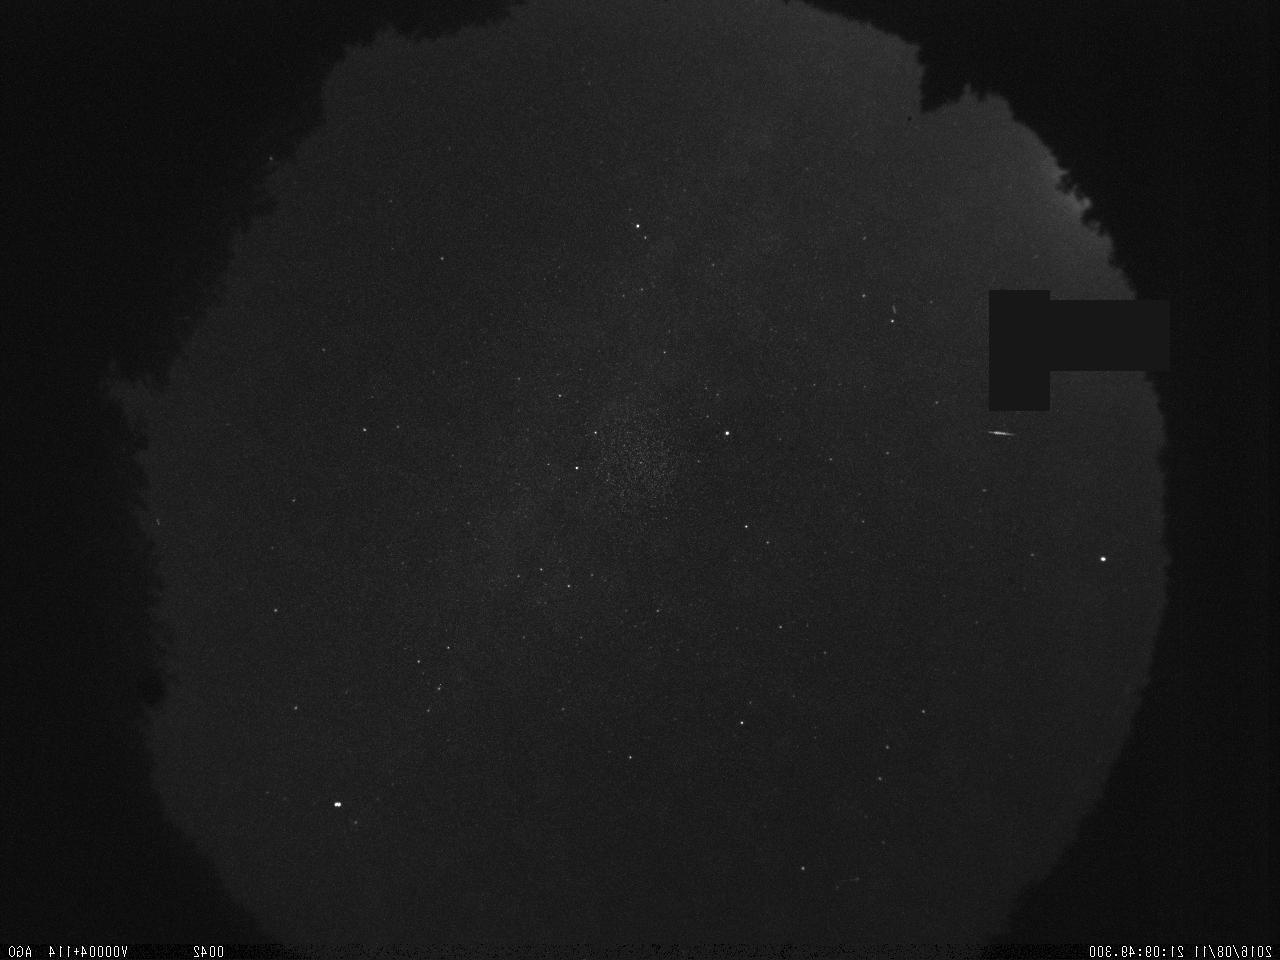meteor: (978, 423, 1018, 447)
